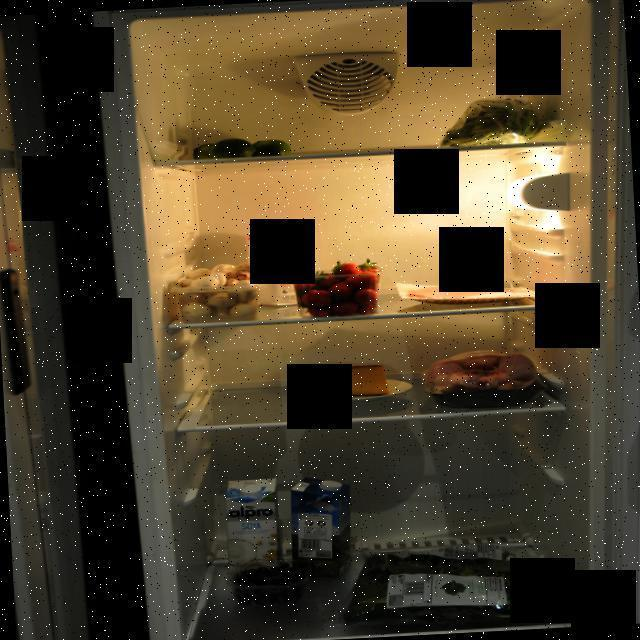blueberries: (232, 558, 312, 604)
cheese: (302, 357, 395, 404)
chicken: (421, 344, 552, 409)
green_beans: (432, 89, 570, 150)
ham: (406, 276, 536, 308)
lime: (190, 134, 293, 166)
milk: (285, 474, 359, 582), (218, 473, 287, 572)
mushrooms: (176, 260, 268, 324)
spinach: (334, 529, 584, 636)
strawberries: (288, 258, 384, 320)
sugar: (245, 218, 315, 311)
